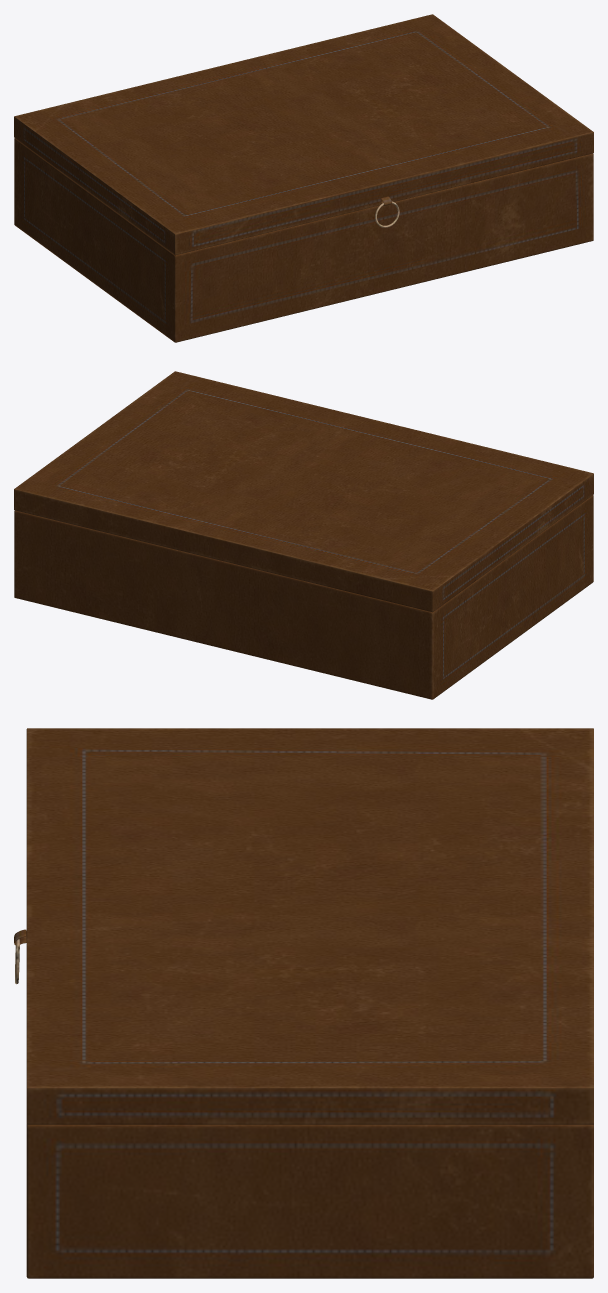
Rendered from deco_box_001.fbx.
3 views of the same model, one above another, from view 1: azimuth 30°, elevation 25°; view 2: azimuth 150°, elevation 25°; view 3: azimuth 270°, elevation 25° (orthographic). The views are drawn at different scales.
Parts seen in each view (by area): view 1: Circle; view 2: Circle; view 3: Circle.
Boxes of the visible parts, bbox=[...] form: Circle: bbox=[14, 14, 593, 342]; Circle: bbox=[14, 371, 593, 699]; Circle: bbox=[14, 728, 593, 1278].
Bounding box in the file's own units: 15 × 3.73 × 10.23.
Materials: 1 (1 with a texture image).
